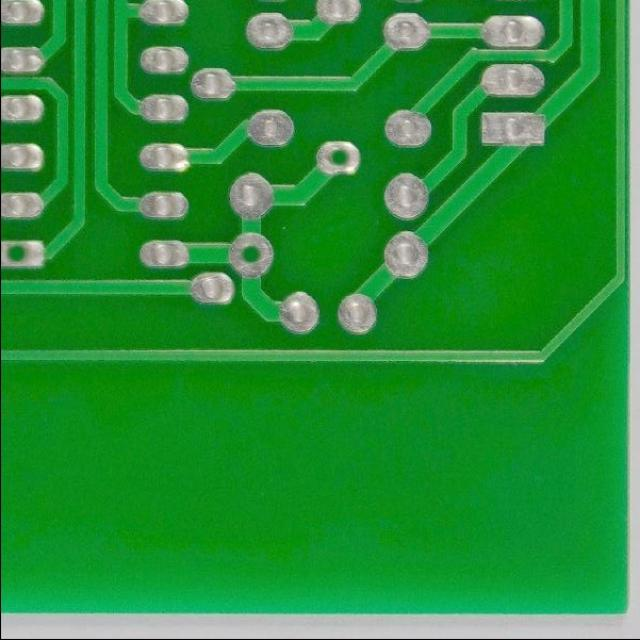missing_hole: (231, 234, 272, 275), (320, 140, 356, 176), (1, 240, 37, 272)
